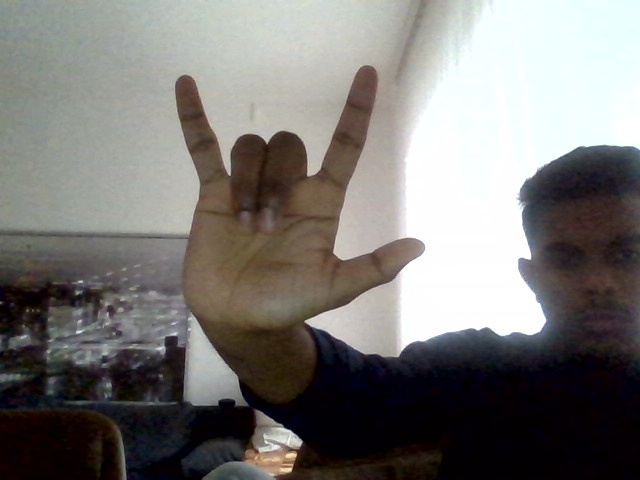thank: (174, 75, 426, 325)
